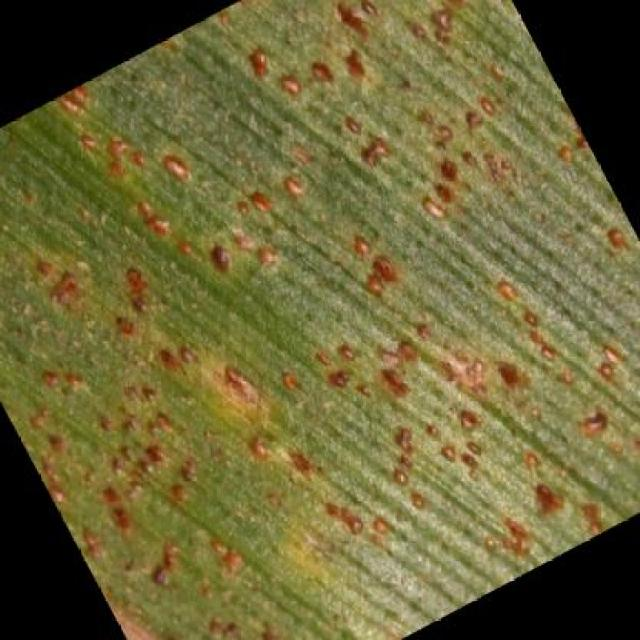Corn_Rust: (78, 111, 572, 535)
